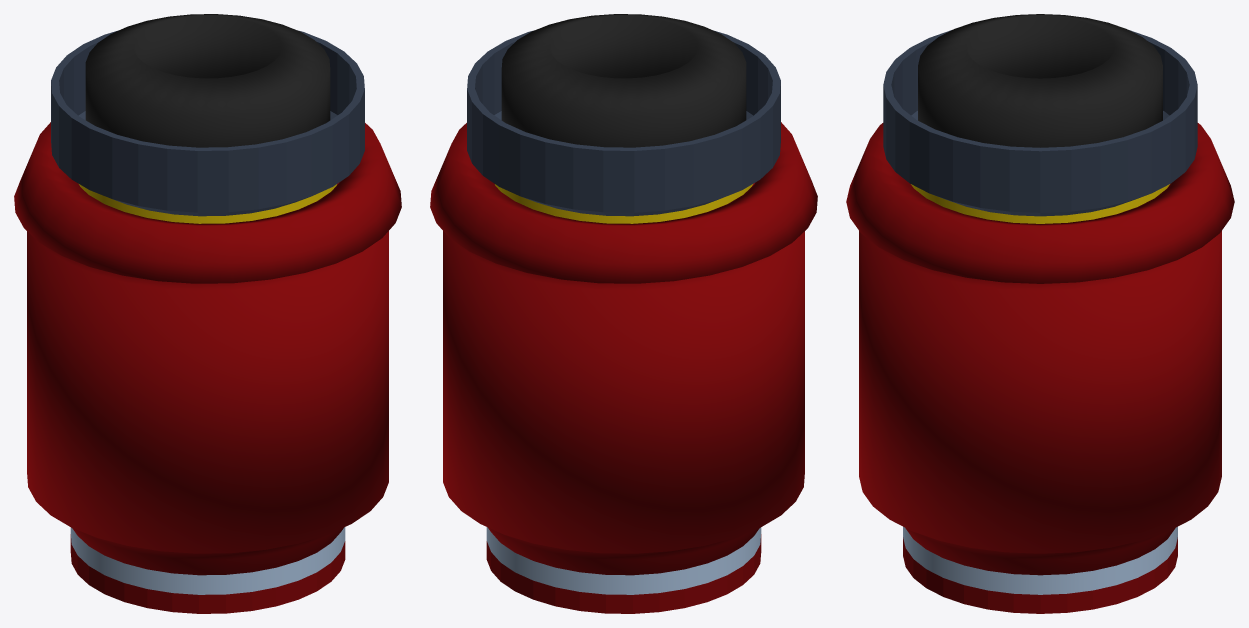
Rendered from grenade_final.glb.
3 renders of one model, left to right at view 1: azimuth 30°, elevation 25°; view 2: azimuth 150°, elevation 25°; view 3: azimuth 270°, elevation 25°, orthographic.
Visible parts, largest first — view 1: Joined_Lowpoly Frag Grenade, Joined_Lowpoly Frag Grenade_Material.001_0.010, Joined_Lowpoly Frag Grenade_Material.001_0.007, Joined_Lowpoly Frag Grenade_Material.001_0.002, Joined_Lowpoly Frag Grenade_Material.001_0.004; view 2: Joined_Lowpoly Frag Grenade, Joined_Lowpoly Frag Grenade_Material.001_0.010, Joined_Lowpoly Frag Grenade_Material.001_0.007, Joined_Lowpoly Frag Grenade_Material.001_0.002, Joined_Lowpoly Frag Grenade_Material.001_0.004; view 3: Joined_Lowpoly Frag Grenade, Joined_Lowpoly Frag Grenade_Material.001_0.010, Joined_Lowpoly Frag Grenade_Material.001_0.007, Joined_Lowpoly Frag Grenade_Material.001_0.002, Joined_Lowpoly Frag Grenade_Material.001_0.004.
Part boxes in pixels (x1=…): Joined_Lowpoly Frag Grenade: x1=14, y1=122, x2=401, y2=594; Joined_Lowpoly Frag Grenade_Material.001_0.010: x1=85, y1=14, x2=330, y2=147; Joined_Lowpoly Frag Grenade_Material.001_0.007: x1=51, y1=30, x2=364, y2=216; Joined_Lowpoly Frag Grenade_Material.001_0.002: x1=70, y1=534, x2=345, y2=613; Joined_Lowpoly Frag Grenade_Material.001_0.004: x1=79, y1=184, x2=336, y2=223; Joined_Lowpoly Frag Grenade: x1=430, y1=122, x2=817, y2=594; Joined_Lowpoly Frag Grenade_Material.001_0.010: x1=501, y1=14, x2=746, y2=147; Joined_Lowpoly Frag Grenade_Material.001_0.007: x1=467, y1=30, x2=780, y2=216; Joined_Lowpoly Frag Grenade_Material.001_0.002: x1=486, y1=534, x2=761, y2=613; Joined_Lowpoly Frag Grenade_Material.001_0.004: x1=495, y1=184, x2=752, y2=223; Joined_Lowpoly Frag Grenade: x1=846, y1=123, x2=1234, y2=594; Joined_Lowpoly Frag Grenade_Material.001_0.010: x1=918, y1=14, x2=1162, y2=147; Joined_Lowpoly Frag Grenade_Material.001_0.007: x1=883, y1=30, x2=1197, y2=216; Joined_Lowpoly Frag Grenade_Material.001_0.002: x1=903, y1=537, x2=1177, y2=613; Joined_Lowpoly Frag Grenade_Material.001_0.004: x1=911, y1=184, x2=1169, y2=223.
Bounding box in the file's own units: 1.39 × 2.01 × 1.39.
